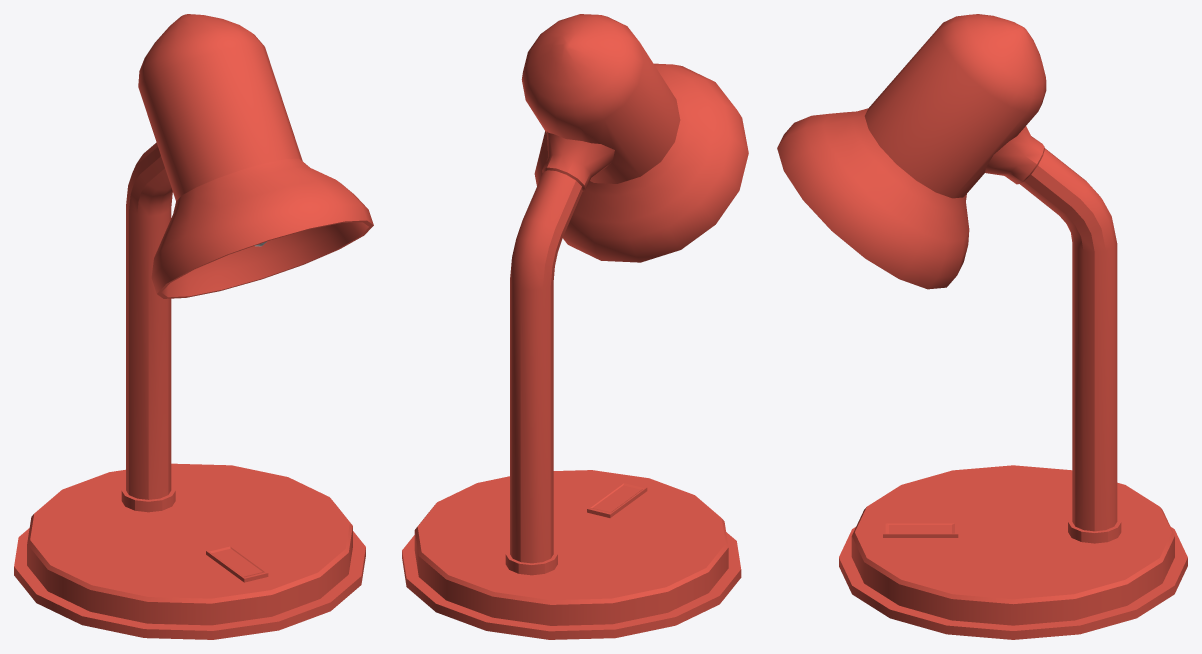
The model's file is table_lamp_1_low.fbx.
3 renders of one model, left to right at view 1: azimuth 30°, elevation 25°; view 2: azimuth 150°, elevation 25°; view 3: azimuth 270°, elevation 25°, orthographic. The views are drawn at different scales.
Visible parts, largest first — view 1: table_lamp_1_low; view 2: table_lamp_1_low; view 3: table_lamp_1_low.
Boxes of the visible parts, left/top/right/bottom form: table_lamp_1_low: left=14, top=14, right=373, bottom=639; table_lamp_1_low: left=402, top=14, right=748, bottom=639; table_lamp_1_low: left=777, top=14, right=1187, bottom=639.
Size of the model in its own units: 30.54 by 52.66 by 35.94.
